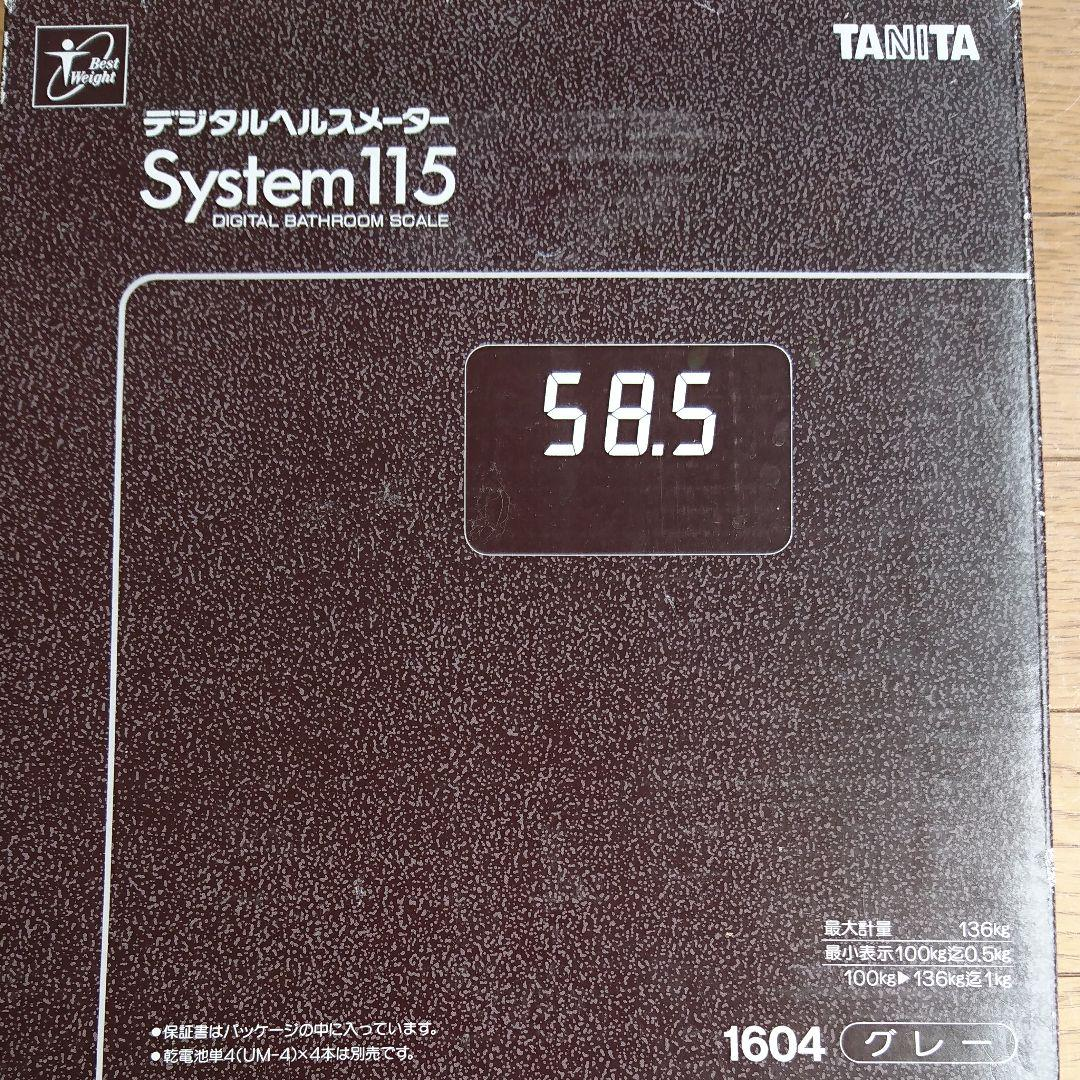LCD: (462, 341, 795, 556)
